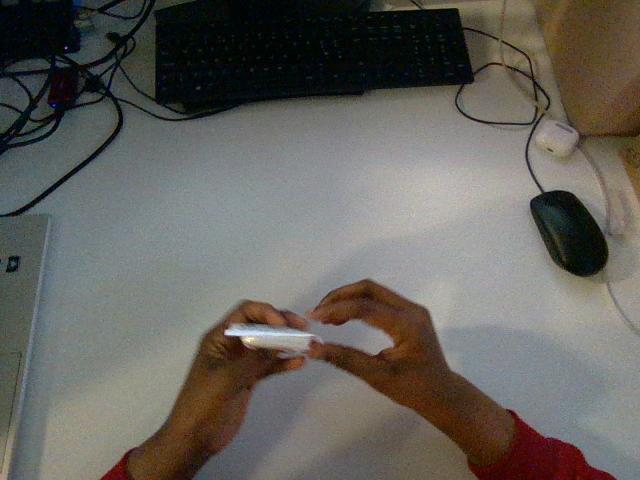gauze: (225, 324, 321, 355)
